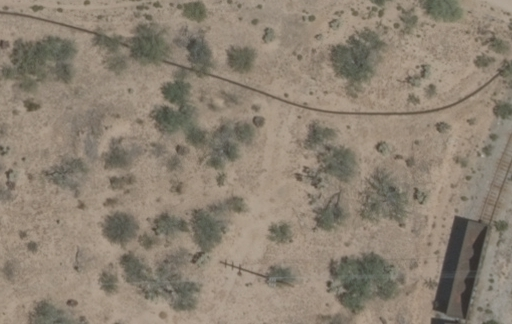DT: (267, 273, 289, 289)
